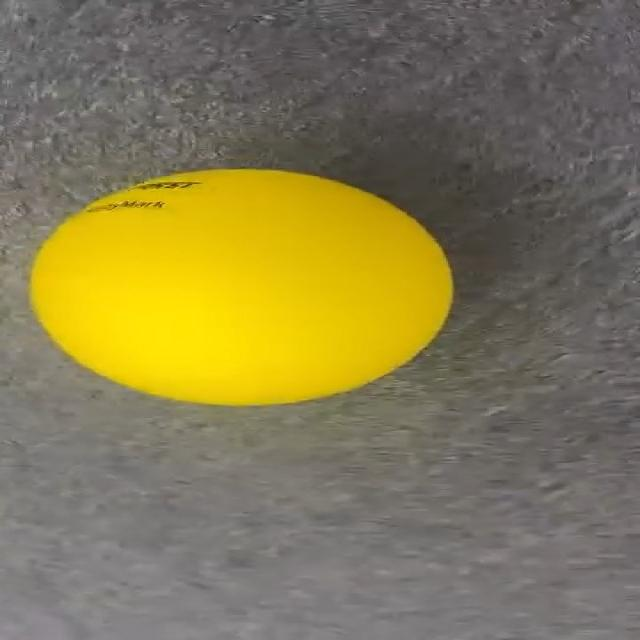Fuels: (32, 169, 452, 403)
